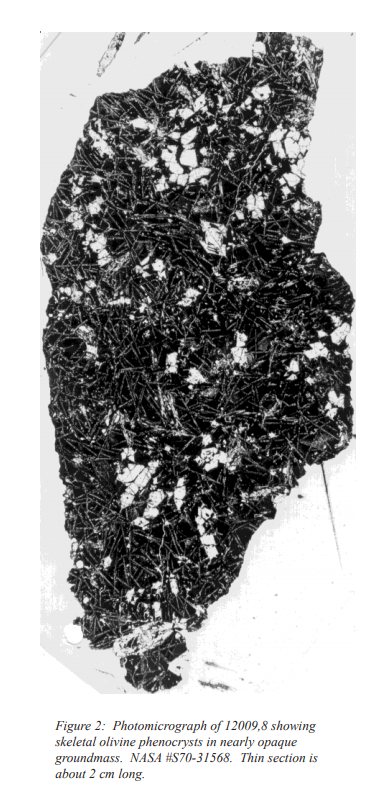Basalt: (40, 29, 362, 698)
